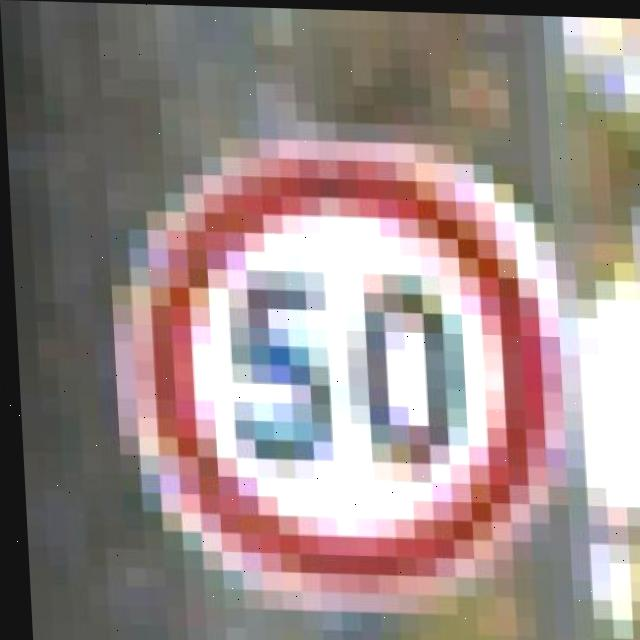Speed limit 50: (122, 130, 564, 604)
